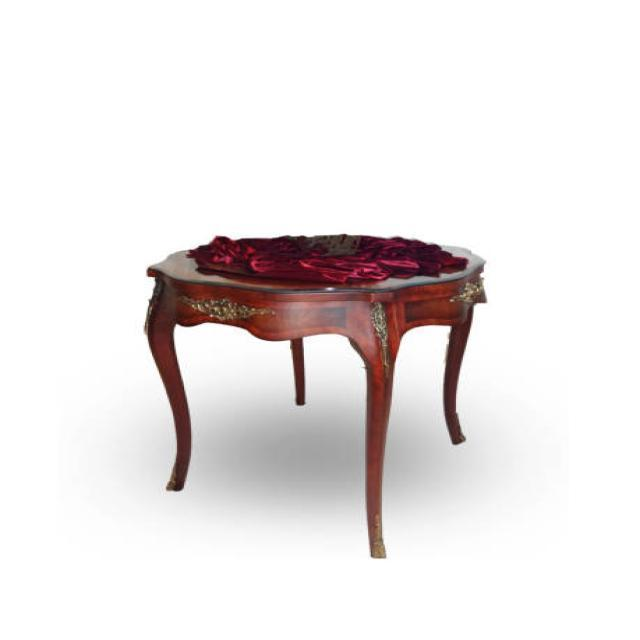table: (142, 236, 488, 558)
